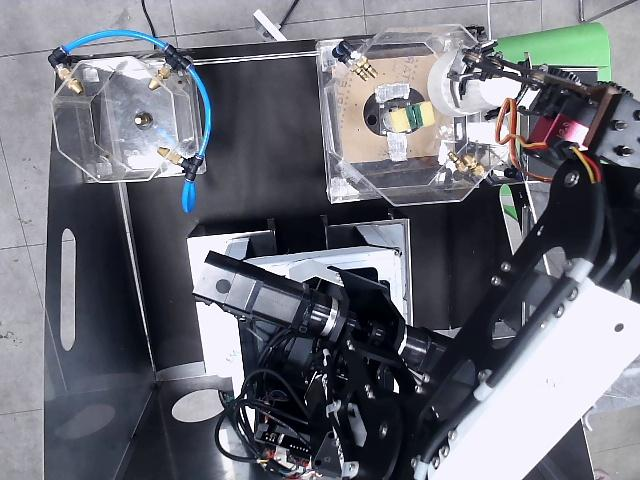cup: (428, 47, 521, 116)
